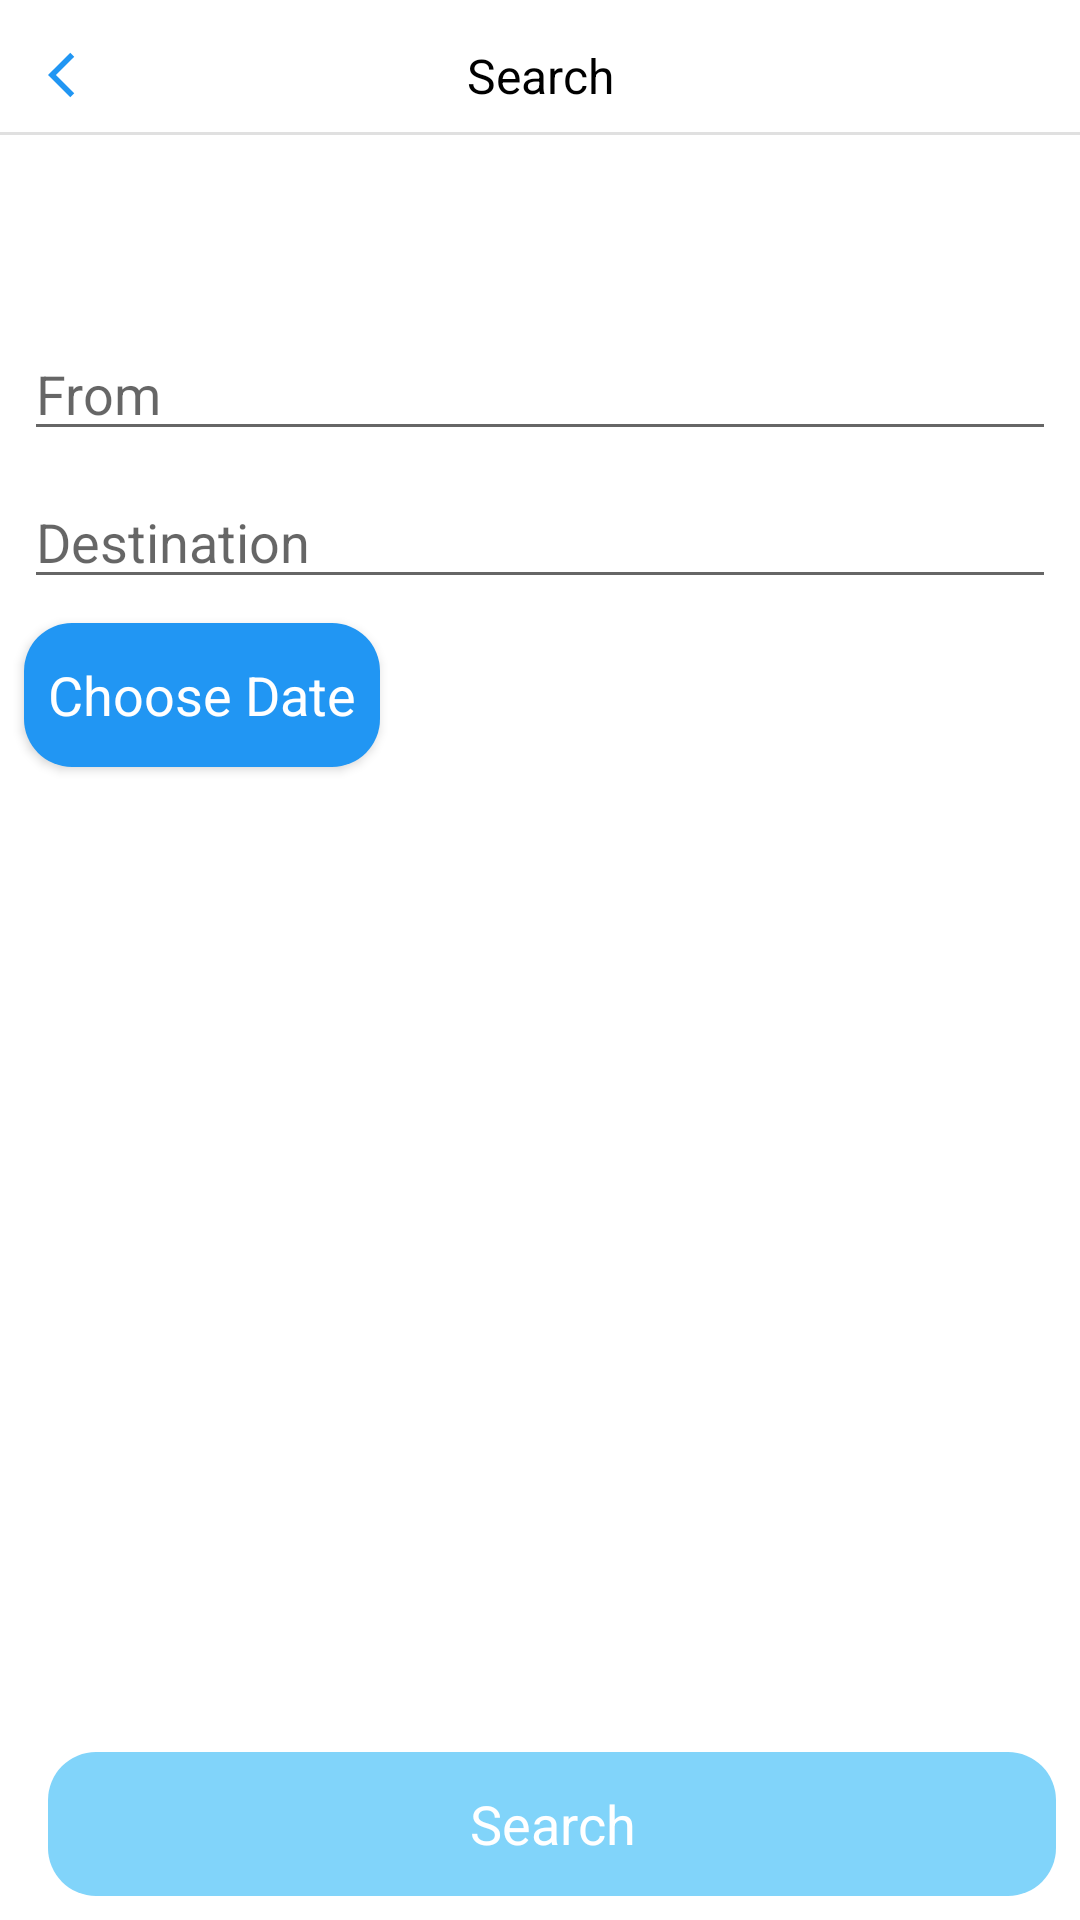

Screen size 1080x1920. Icon name, then its box in pixels as [left=x1, top=y1, right=x2, bottom=y2]:
Back: [left=48, top=53, right=74, bottom=97]
